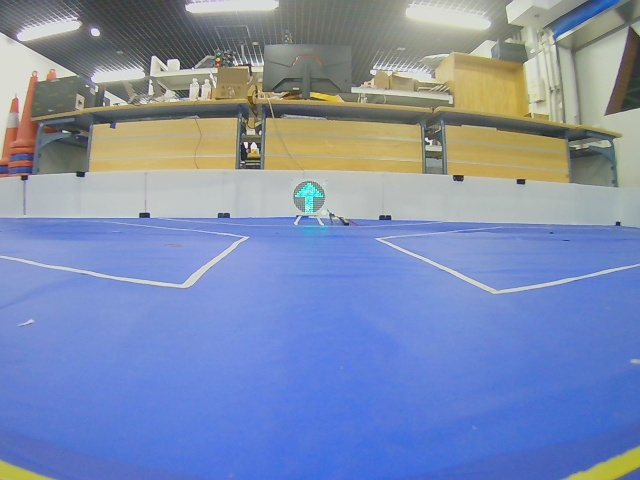straight_green: (293, 181, 325, 214)
